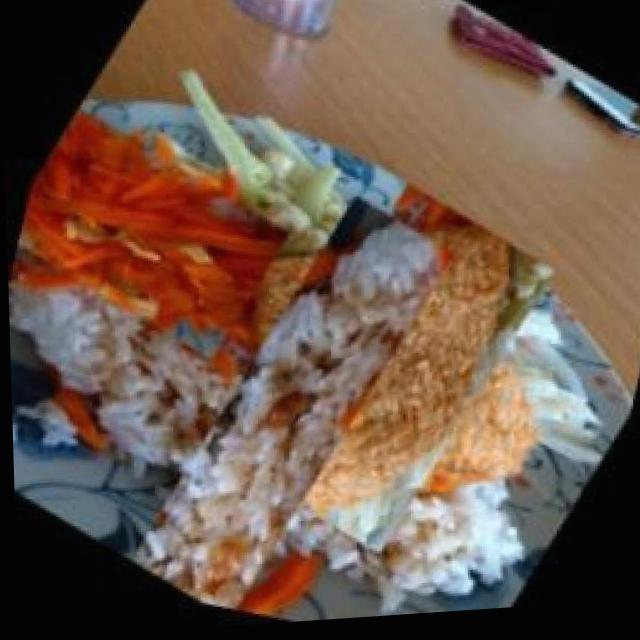carrot_eggs: (2, 84, 314, 383)
fried_chicken: (193, 168, 592, 578)
rice: (14, 191, 517, 640)
